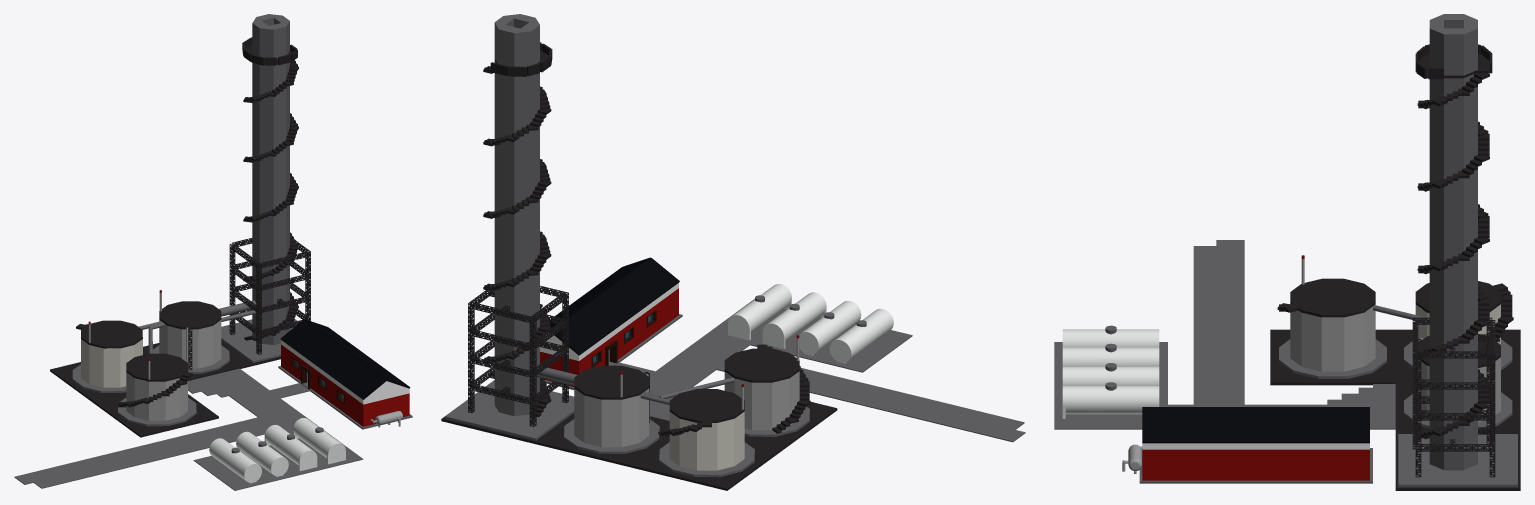
The model's file is map_6.obj.
The picture shows the model from 3 angles, left to right: view 1: azimuth 30°, elevation 25°; view 2: azimuth 150°, elevation 25°; view 3: azimuth 270°, elevation 25°; orthographic projection. The views are drawn at different scales.
Visible parts, largest first — view 1: Partc1original2, Partc1original1, Wedge14, Parta12, Part466, Parta11, Wedge16, Wedge155, Part162, Wedge158, Part126, Part188 (+8 smaller); view 2: Partc1original1, Partc1original2, Part126, Part199, Parta21, Wedge42, Wedge162, Parta22, Wedge13, Wedge15, Part157, Wedge43 (+9 smaller); view 3: Partc1original2, Partc1original1, Part199, Part527, Parta12, Part507, Parta22, Wedge157, Wedge159, Part891, Part702, Part782 (+19 smaller).
Part boxes in pixels (x1,y1,x2,y2): Partc1original2: [236, 431, 288, 476]; Partc1original1: [209, 438, 261, 482]; Wedge14: [103, 348, 120, 387]; Parta12: [310, 431, 345, 462]; Part466: [231, 340, 280, 362]; Parta11: [282, 438, 317, 467]; Wedge16: [89, 345, 103, 387]; Wedge155: [149, 381, 165, 420]; Part162: [198, 326, 212, 368]; Wedge158: [134, 378, 148, 420]; Part126: [221, 321, 252, 346]; Part188: [118, 418, 179, 437]; Partc1original1: [829, 308, 893, 362]; Partc1original2: [799, 301, 861, 354]; Part126: [490, 414, 561, 440]; Part199: [445, 398, 507, 429]; Parta21: [762, 308, 805, 346]; Wedge42: [601, 399, 621, 447]; Wedge162: [752, 382, 772, 430]; Parta22: [728, 300, 770, 337]; Wedge13: [697, 423, 717, 470]; Wedge15: [717, 418, 734, 470]; Part157: [584, 395, 601, 446]; Wedge43: [622, 395, 639, 447]; Partc1original2: [1062, 347, 1159, 366]; Partc1original1: [1062, 329, 1159, 347]; Part199: [1458, 459, 1517, 487]; Part527: [1398, 459, 1458, 487]; Parta12: [1062, 386, 1110, 414]; Part507: [1321, 317, 1344, 371]; Parta22: [1111, 386, 1159, 414]; Wedge157: [1301, 313, 1321, 371]; Wedge159: [1344, 313, 1364, 371]; Part891: [1227, 407, 1256, 443]; Part702: [1139, 448, 1372, 483]; Part782: [1313, 407, 1341, 443].
Size of the model in its own units: 208 by 171 by 164.
